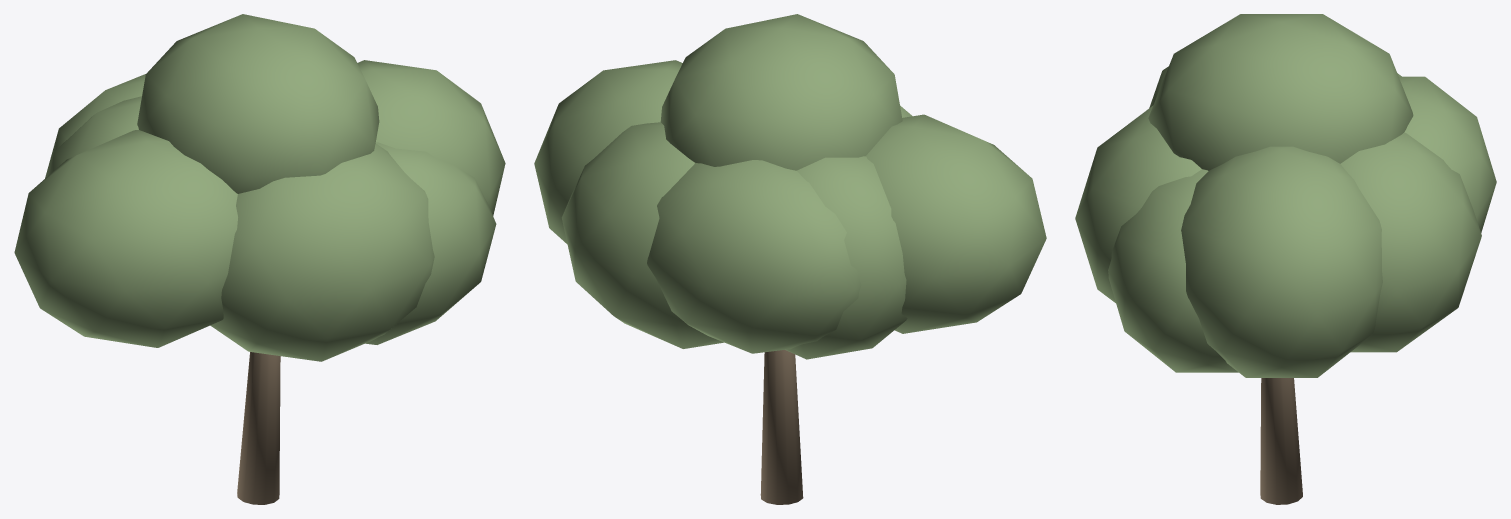
Rendered from SM_OrchardTree2.fbx.
3 views of the same model, side by side, from view 1: azimuth 30°, elevation 25°; view 2: azimuth 150°, elevation 25°; view 3: azimuth 270°, elevation 25° (orthographic).
Visible parts, largest first — view 1: SM_OrchardTree2; view 2: SM_OrchardTree2; view 3: SM_OrchardTree2.
Part boxes in pixels (x1,y1,x2,y2): SM_OrchardTree2: (14, 14, 505, 504); SM_OrchardTree2: (534, 14, 1046, 504); SM_OrchardTree2: (1075, 14, 1496, 504).
Bounding box in the file's own units: 692 × 537 × 666.
